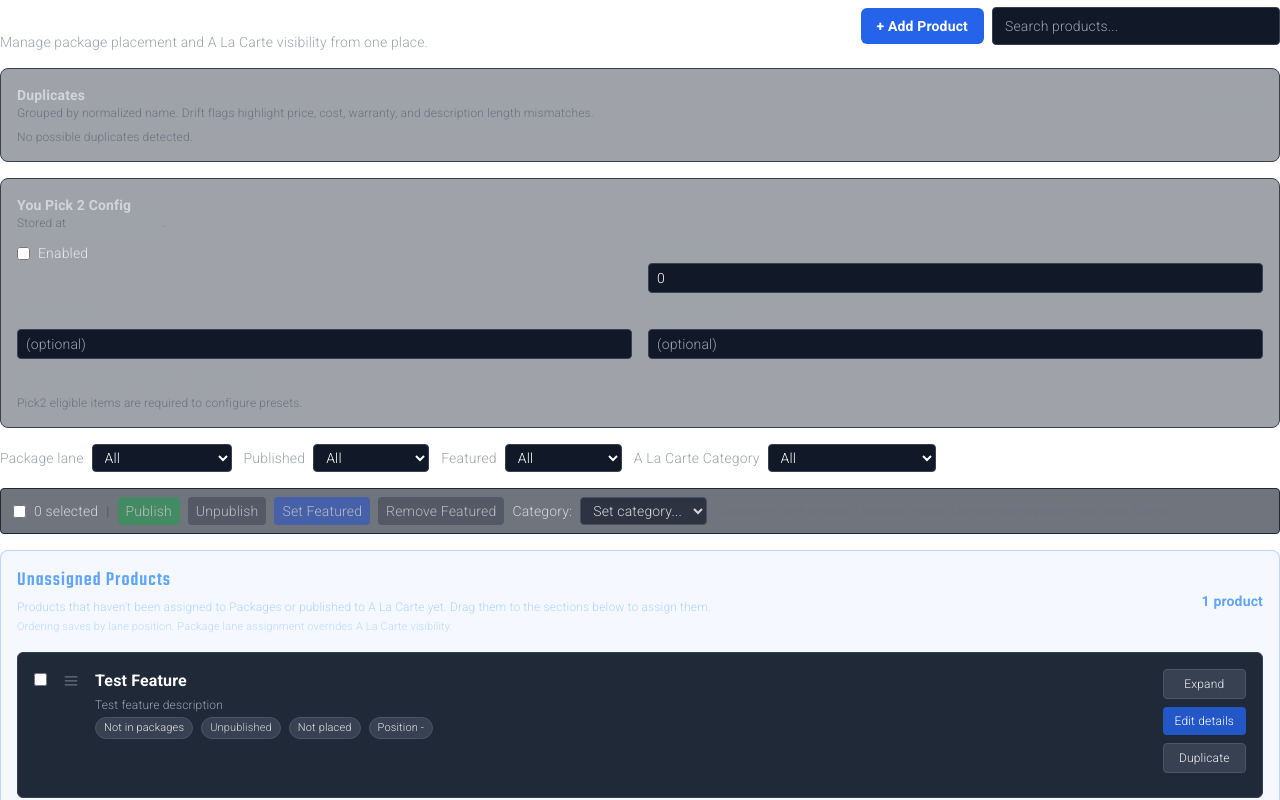
it: ProductHub drag-and-drop interface › keeps Pick2 eligible true for the missing-option Pick2 sort admin save path
The image size is (1280, 800).
Click the button "Expand": {"x": 1204, "y": 684} [1163,668,1246,698]
(page scrolled)
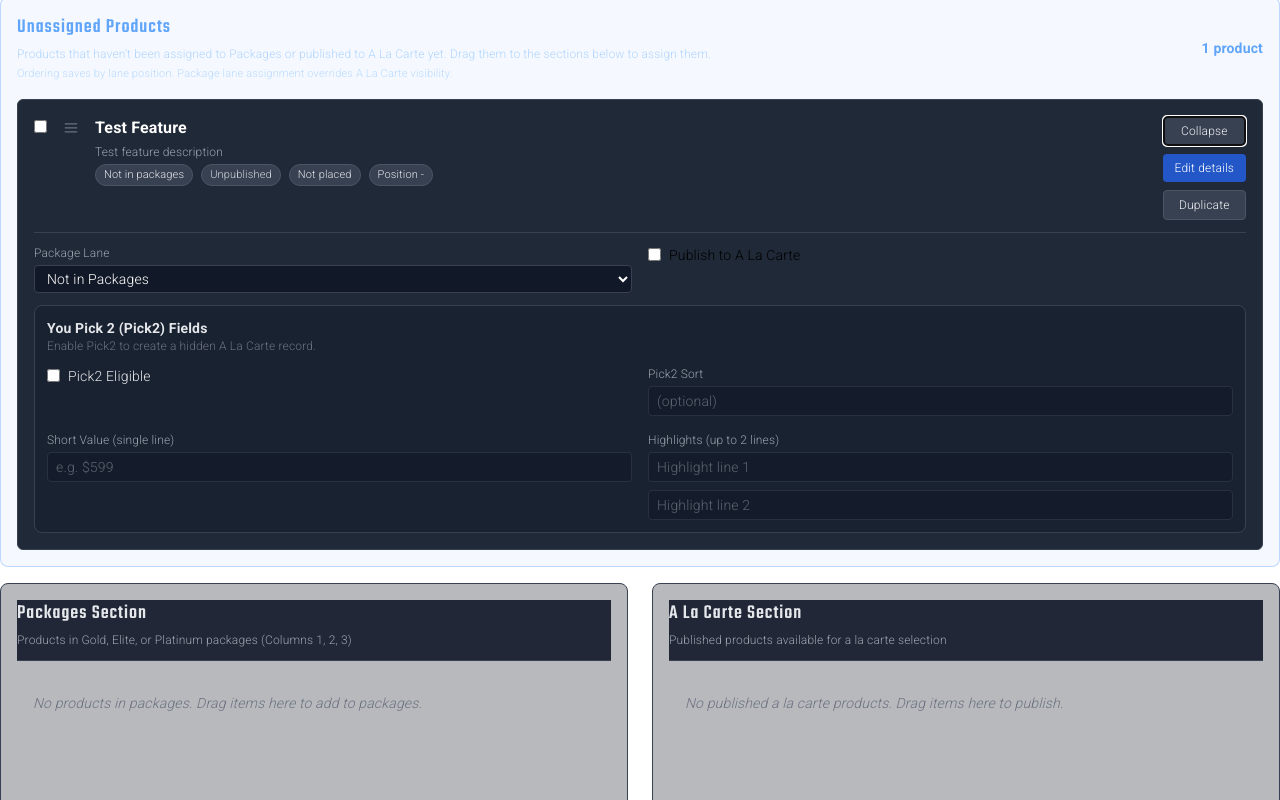
Leave the number field labelled "Pick2 Sort", box [648,386,1233,416]
(page scrolled)
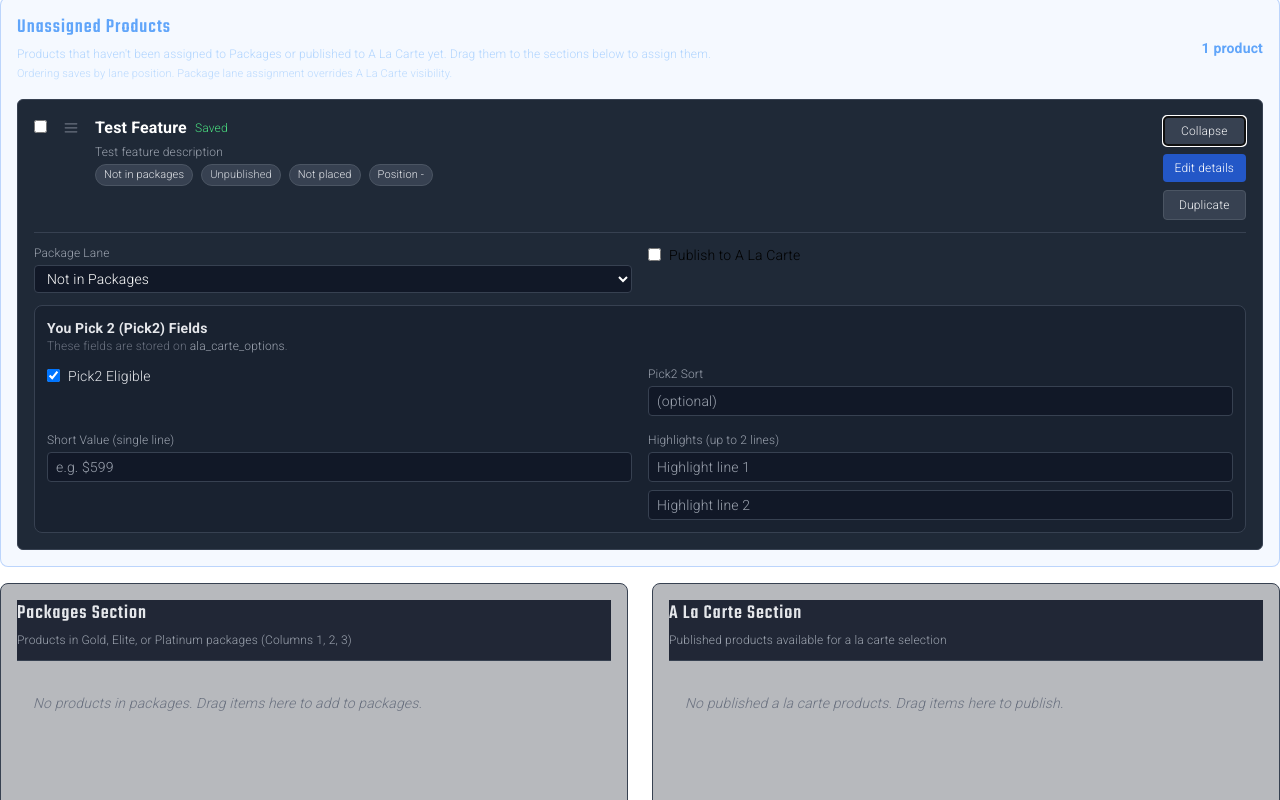
expect the checkbox labelled "Pick2 Eligible" is checked: met, box [47,369,60,382]
